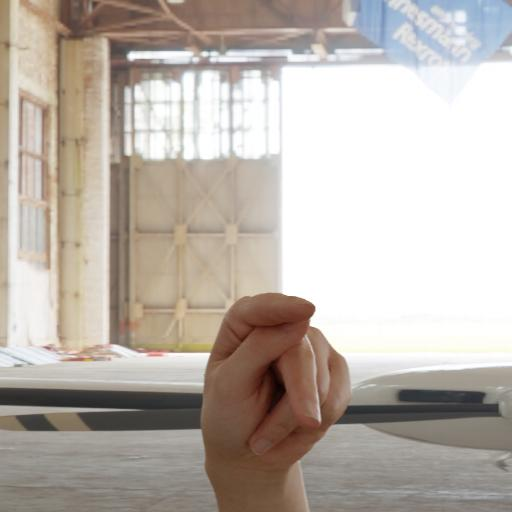P: (185, 283, 360, 512)
